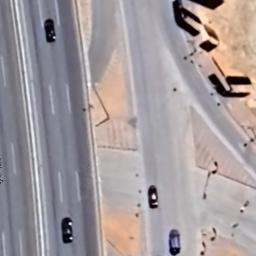SUV: (167, 225, 184, 256)
sedan: (41, 18, 61, 46), (60, 214, 76, 246), (146, 182, 160, 216)
